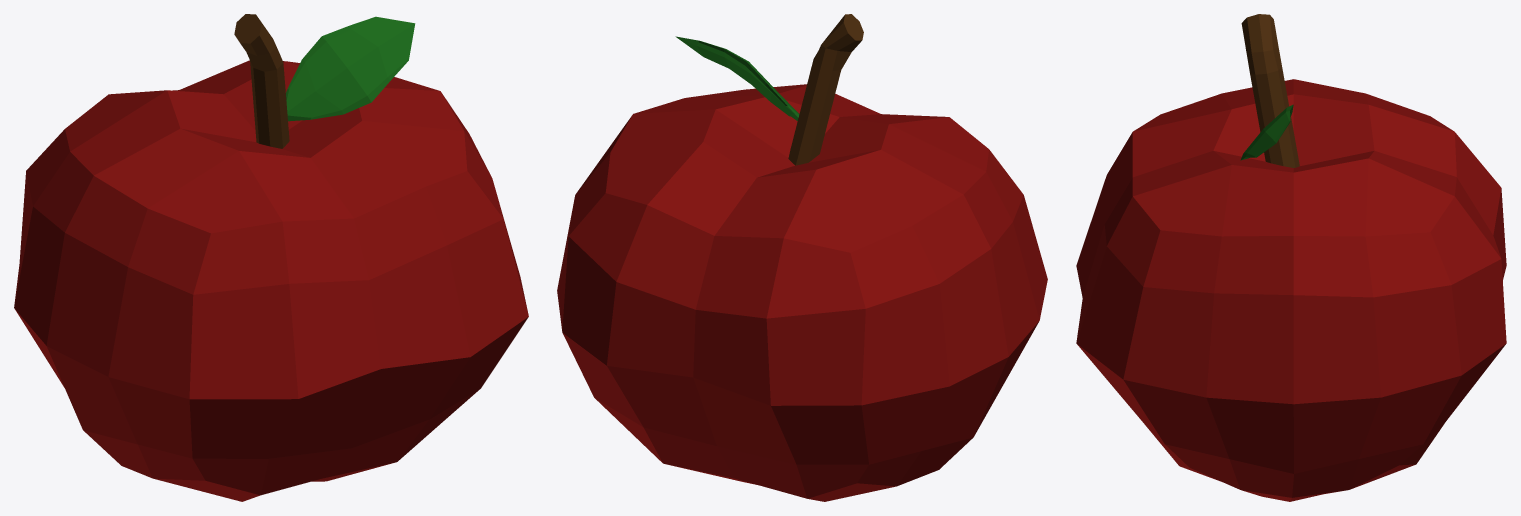
Rendered from manzana.fbx.
3 views of the same model, side by side, from view 1: azimuth 30°, elevation 25°; view 2: azimuth 150°, elevation 25°; view 3: azimuth 270°, elevation 25° (orthographic). The views are drawn at different scales.
Parts seen in each view (by area): view 1: Cube, Cube.001, Cylinder; view 2: Cube, Cylinder, Cube.001; view 3: Cube, Cylinder, Cube.001.
Boxes of the visible parts, x1,y1,x2,y2 form: Cube: [14, 60, 528, 501]; Cube.001: [286, 16, 415, 121]; Cylinder: [234, 14, 289, 148]; Cube: [557, 84, 1047, 501]; Cylinder: [788, 14, 863, 165]; Cube.001: [675, 36, 799, 120]; Cube: [1076, 79, 1506, 501]; Cylinder: [1241, 14, 1299, 167]; Cube.001: [1240, 104, 1293, 160].
Bounding box in the file's own units: 105 × 111 × 95.85.
